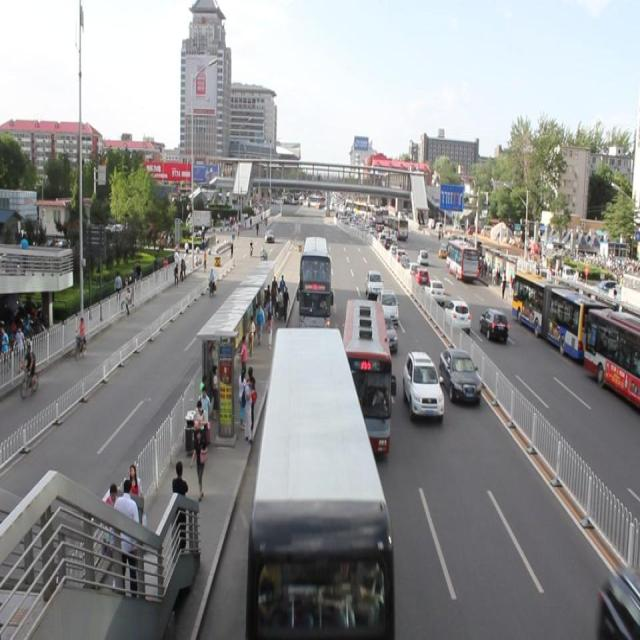car: (399, 349, 446, 423), (436, 342, 482, 406), (376, 308, 399, 352), (376, 283, 400, 321), (362, 268, 383, 294)
van: (239, 323, 403, 640), (334, 294, 399, 460), (292, 230, 335, 335)
